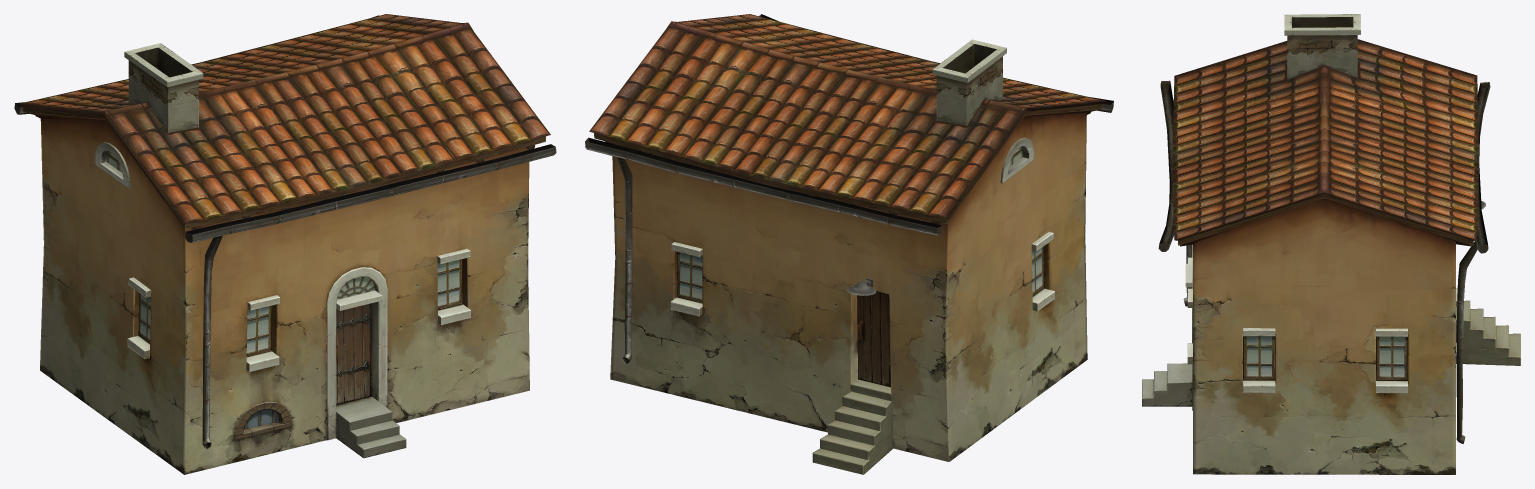
File: townhousesmall2.fbx
3 renders of one model, left to right at view 1: azimuth 30°, elevation 25°; view 2: azimuth 150°, elevation 25°; view 3: azimuth 270°, elevation 25°, orthographic. The views are drawn at different scales.
Parts seen in each view (by area): view 1: GEOM0-LOD0.002; view 2: GEOM0-LOD0.002; view 3: GEOM0-LOD0.002.
Part boxes in pixels (box(x1,y1,x2,y2)): GEOM0-LOD0.002: box(14, 14, 556, 474); GEOM0-LOD0.002: box(585, 14, 1113, 474); GEOM0-LOD0.002: box(1142, 14, 1520, 474).
Size of what is drawn, in the model's own units: 743 by 671 by 721.
